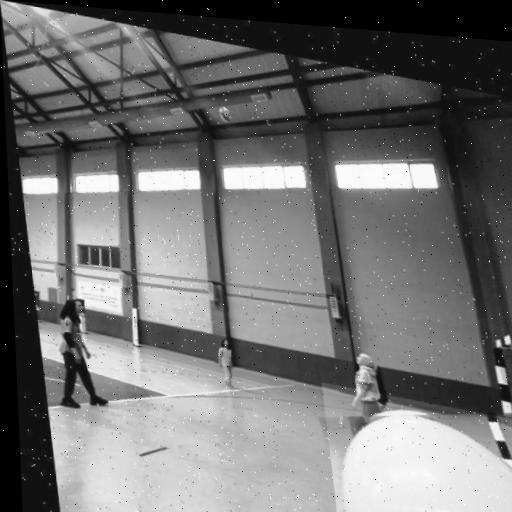balloon: (317, 376, 512, 512)
